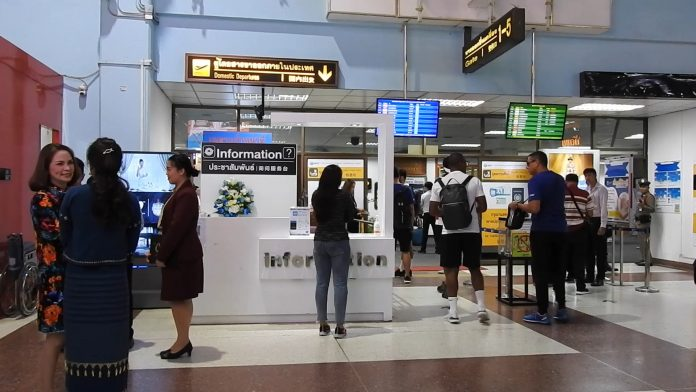backpack: (438, 179, 472, 235), (395, 193, 411, 231)
bag: (503, 200, 529, 233)
people: (63, 127, 138, 392), (26, 137, 71, 392), (154, 148, 202, 367), (436, 147, 493, 331), (306, 150, 359, 342), (519, 142, 571, 329), (561, 166, 591, 296), (585, 163, 613, 292), (631, 166, 657, 268)
